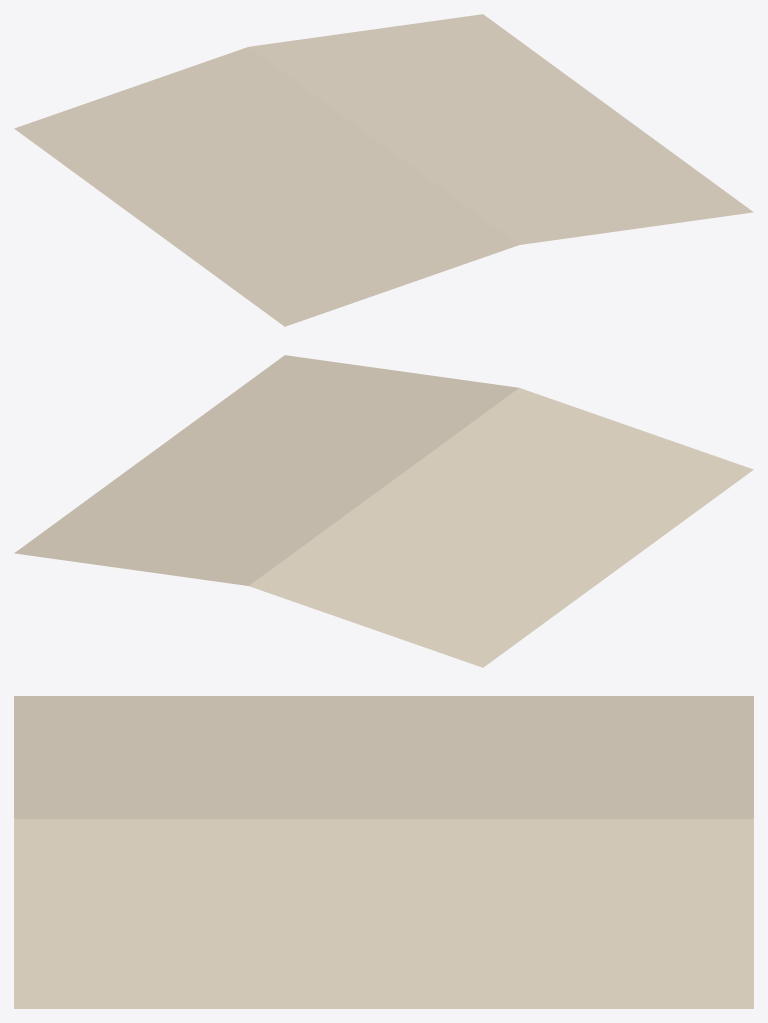
File: Shared_Terrain_Dirt_Gathered_Straight.glb
3 views of the same model, one above another, from view 1: azimuth 30°, elevation 25°; view 2: azimuth 150°, elevation 25°; view 3: azimuth 270°, elevation 25° (orthographic). The views are drawn at different scales.
Parts seen in each view (by area): view 1: Shared_Terrain_Dirt_Gathered_Straight; view 2: Shared_Terrain_Dirt_Gathered_Straight; view 3: Shared_Terrain_Dirt_Gathered_Straight.
Boxes of the visible parts, x1=… form: Shared_Terrain_Dirt_Gathered_Straight: x1=14, y1=14, x2=753, y2=326; Shared_Terrain_Dirt_Gathered_Straight: x1=14, y1=355, x2=753, y2=667; Shared_Terrain_Dirt_Gathered_Straight: x1=14, y1=696, x2=753, y2=1008.
Size of the model in its own units: 1 by 0.05 by 1.
